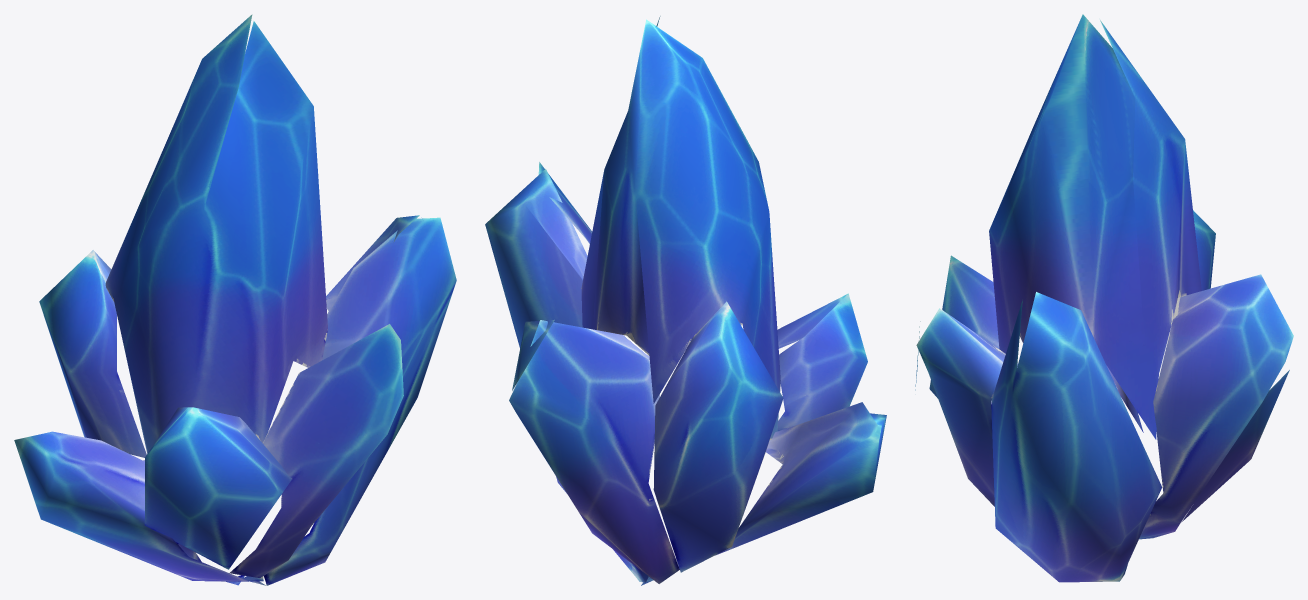
The model's file is crystalsunderwater.glb.
The picture shows the model from 3 angles, left to right: view 1: azimuth 30°, elevation 25°; view 2: azimuth 150°, elevation 25°; view 3: azimuth 270°, elevation 25°; orthographic projection. The views are drawn at different scales.
Parts seen in each view (by area): view 1: Crystal_underwater; view 2: Crystal_underwater; view 3: Crystal_underwater.
Boxes of the visible parts, x1,y1,x2,y2 form: Crystal_underwater: (14,14,456,585); Crystal_underwater: (485,16,886,585); Crystal_underwater: (915,14,1293,582).
Bounding box in the file's own units: 1.21 × 1.61 × 0.9687.
1 material, 1 textured.
